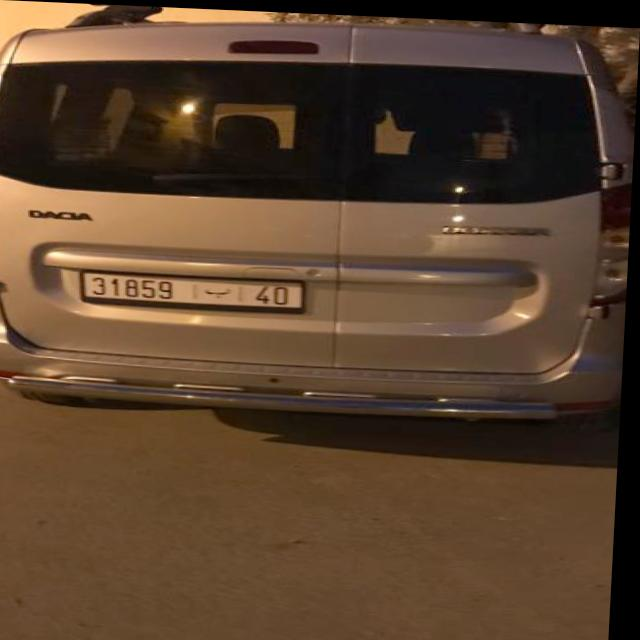License-Plate: (85, 273, 304, 309)
